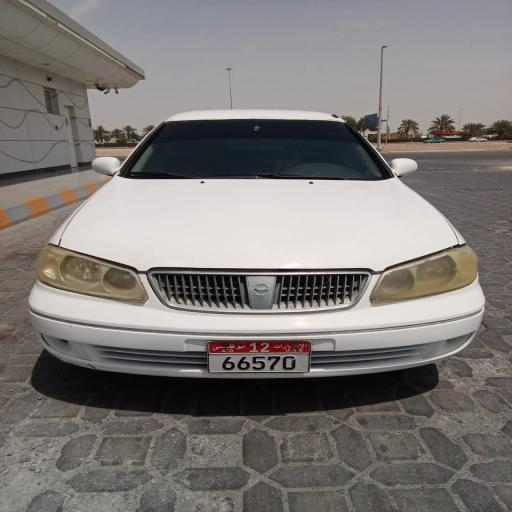license-plates: (208, 341, 311, 373)
